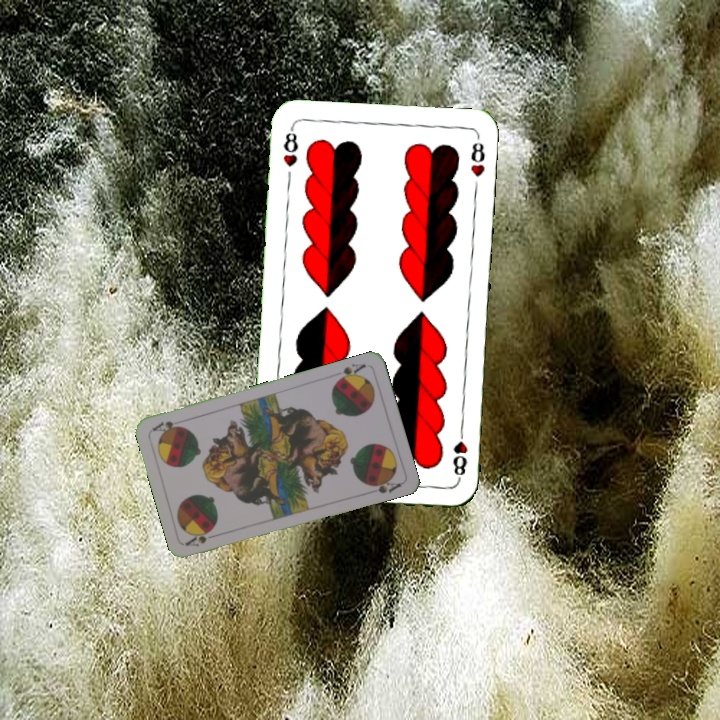H8: (449, 423, 470, 483), (279, 124, 301, 170)
SA: (332, 360, 369, 385), (182, 526, 222, 549)
